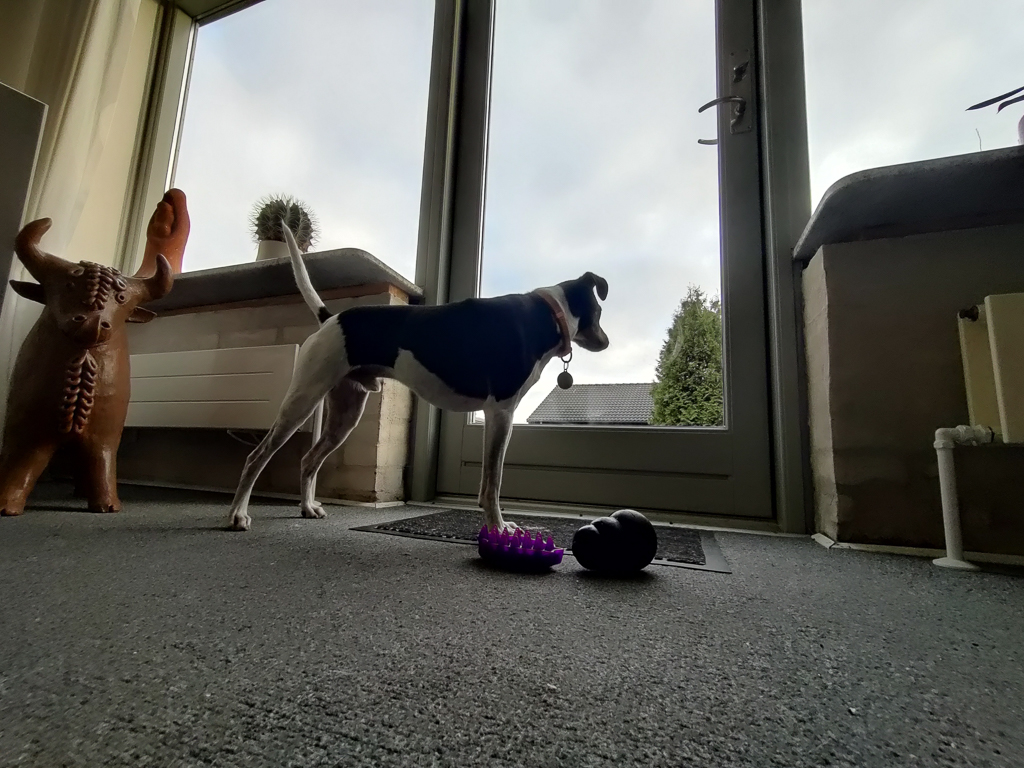Cattle: (0, 213, 180, 525)
Dog: (217, 202, 625, 539)
Humanoid: (131, 181, 193, 280)
